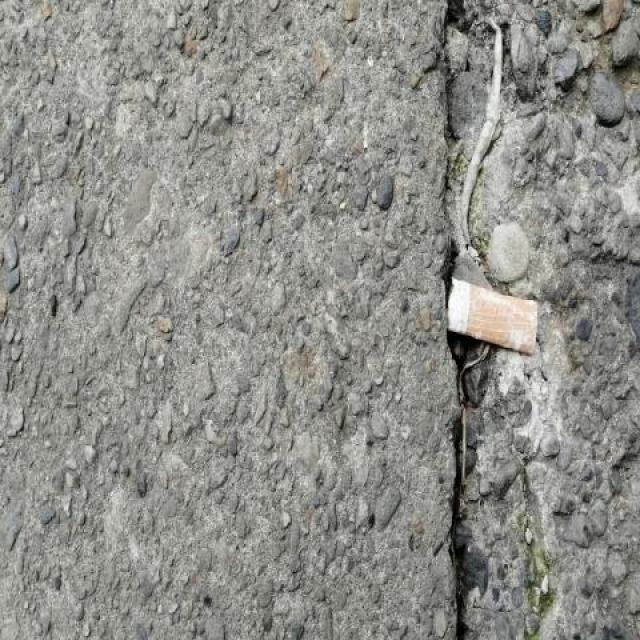non-organic waste: (439, 273, 545, 358)
